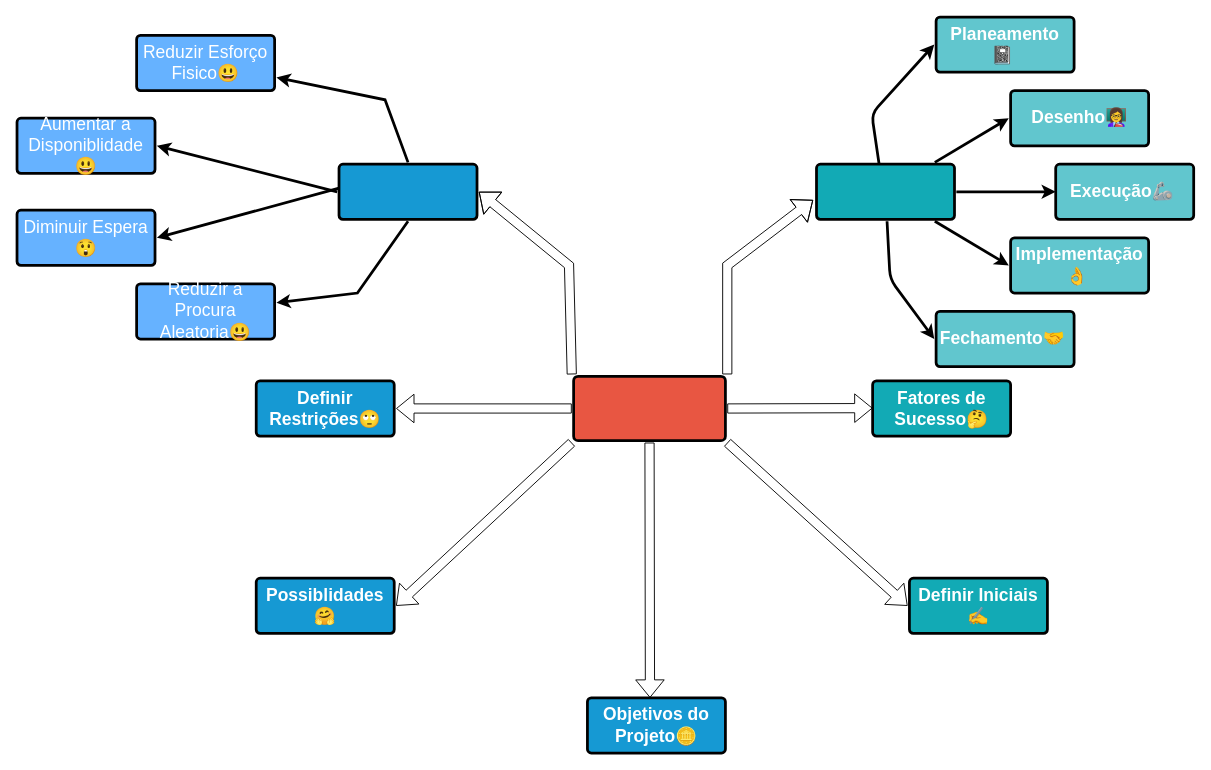
Image size: 1211x770. Some labels were removed from this diagram. The box of each missing label's shape, as (x1, y1, x2, y2) in pixels:
Ciclo de Vida🕘: (815, 162, 955, 220)
Justificativa☺️: (337, 162, 478, 220)
Mapa Mental👀: (572, 374, 726, 442)
